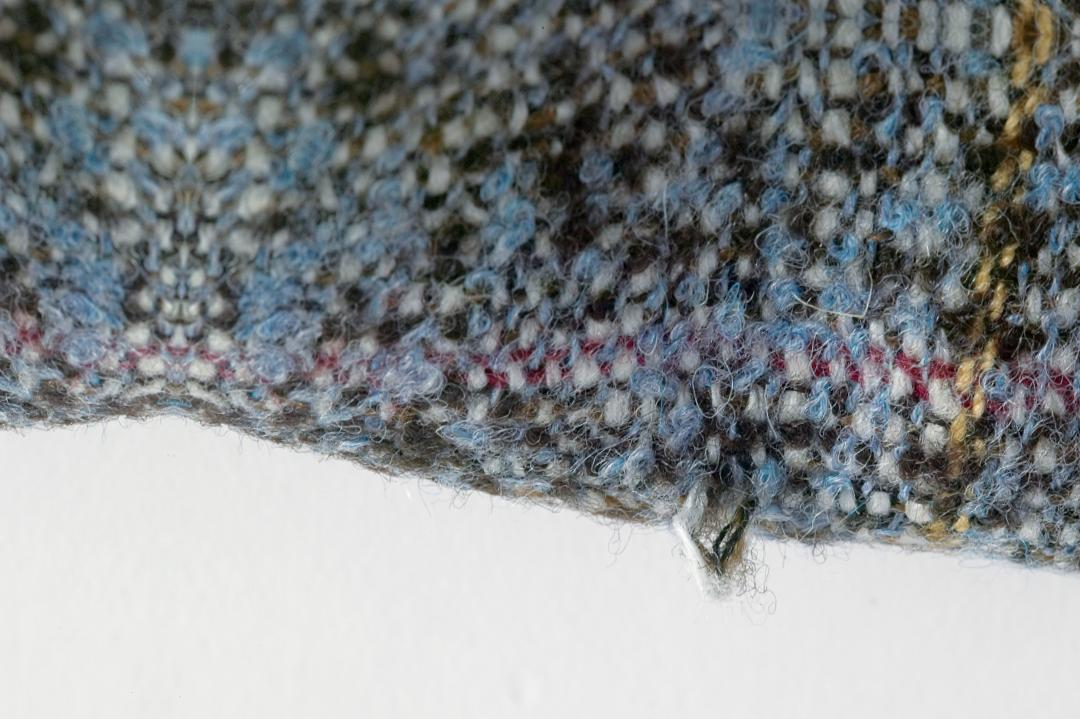snag: (648, 465, 786, 605)
